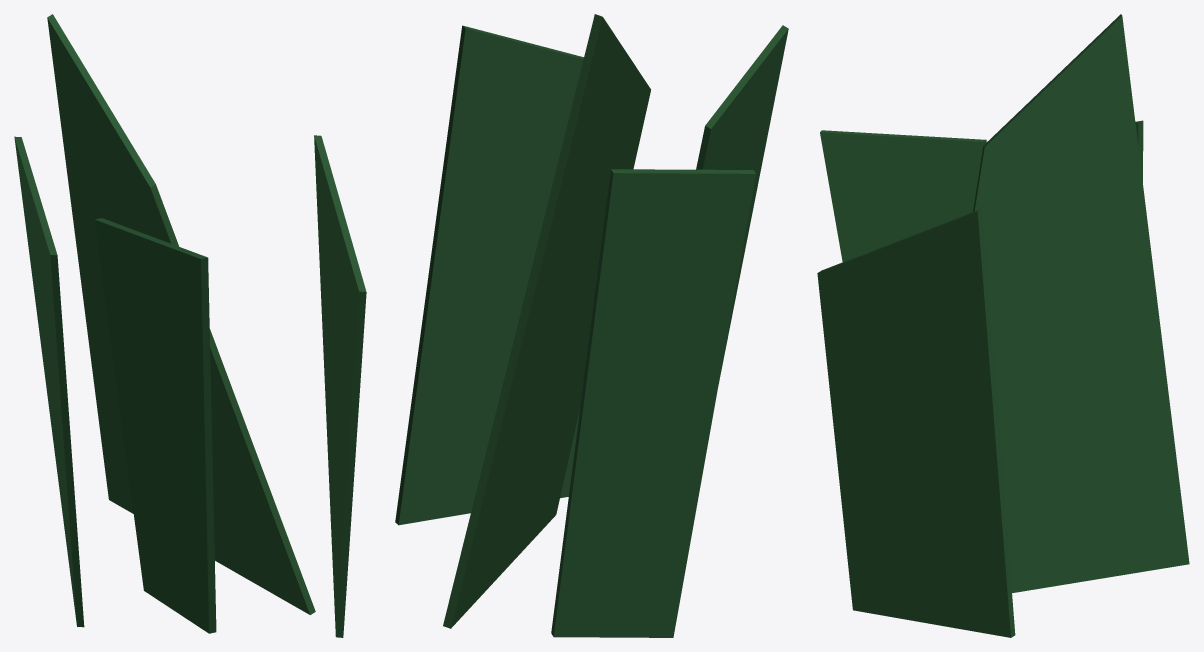
Rendered from CorruptedGrass3.fbx.
3 renders of one model, left to right at view 1: azimuth 30°, elevation 25°; view 2: azimuth 150°, elevation 25°; view 3: azimuth 270°, elevation 25°, orthographic. The views are drawn at different scales.
Parts seen in each view (by area): view 1: pCube6; view 2: pCube6; view 3: pCube6.
Boxes of the visible parts, x1=… form: pCube6: x1=14, y1=14, x2=366, y2=637; pCube6: x1=395, y1=14, x2=788, y2=637; pCube6: x1=817, y1=14, x2=1189, y2=637.
Bounding box in the file's own units: 117 × 210 × 131.
